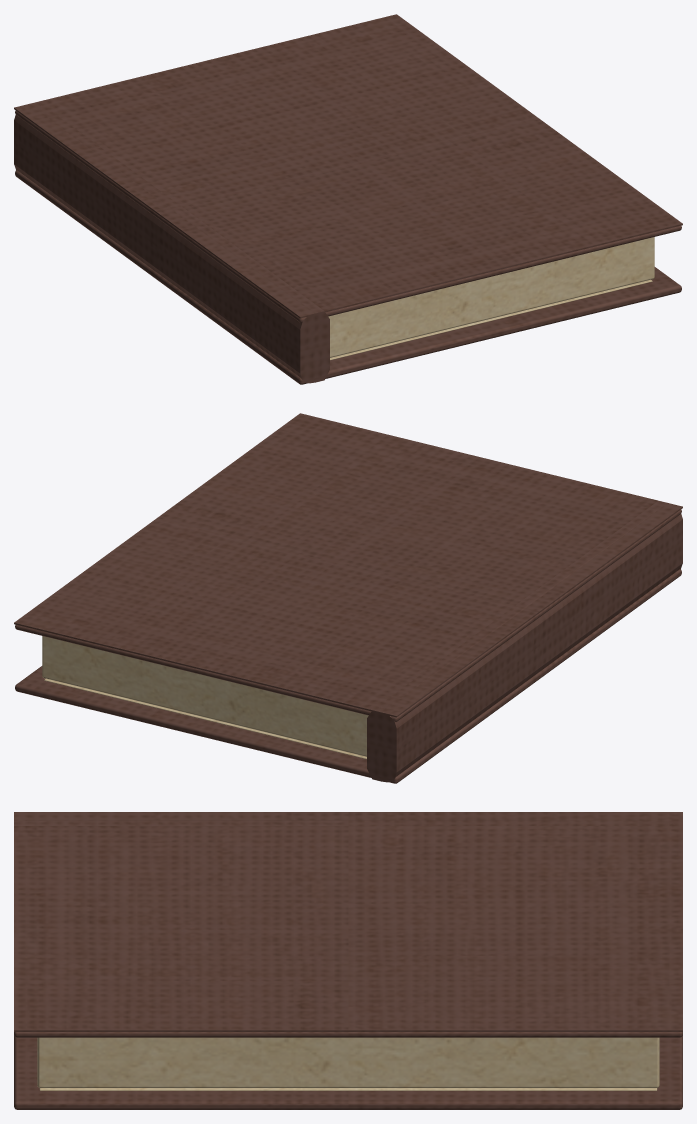
File: family-book-v1.glb
3 renders of one model, top to bottom at view 1: azimuth 30°, elevation 25°; view 2: azimuth 150°, elevation 25°; view 3: azimuth 270°, elevation 25°, orthographic. The views are drawn at different scales.
Parts seen in each view (by area): view 1: FrontClothBoard, ClothSpine, RecessedPageBlock, BackClothBoard, FrontClothBoard_Core, BackBoardInnerEndpaper; view 2: FrontClothBoard, ClothSpine, RecessedPageBlock, BackClothBoard, FrontClothBoard_Core, BackBoardInnerEndpaper; view 3: FrontClothBoard, RecessedPageBlock, BackClothBoard, PageBlock_ForeEdgeLayerRelief, ClothSpine, FrontClothBoard_Core, BackBoardInnerEndpaper.
Boxes of the visible parts, x1,y1,x2,y2 form: FrontClothBoard: (14, 14, 682, 318); ClothSpine: (14, 102, 329, 383); RecessedPageBlock: (328, 237, 654, 357); BackClothBoard: (15, 170, 681, 384); FrontClothBoard_Core: (15, 110, 681, 322); BackBoardInnerEndpaper: (330, 279, 652, 360); FrontClothBoard: (14, 413, 682, 717); ClothSpine: (367, 500, 682, 782); RecessedPageBlock: (42, 636, 368, 756); BackClothBoard: (15, 569, 681, 783); FrontClothBoard_Core: (15, 509, 681, 721); BackBoardInnerEndpaper: (44, 678, 366, 759); FrontClothBoard: (14, 812, 682, 1031); RecessedPageBlock: (37, 1037, 659, 1087); BackClothBoard: (14, 1035, 682, 1109); PageBlock_ForeEdgeLayerRelief: (64, 1037, 632, 1083); ClothSpine: (14, 820, 682, 826); FrontClothBoard_Core: (14, 1032, 682, 1037); BackBoardInnerEndpaper: (39, 1088, 657, 1090).
Bounding box in the file's own units: 0.22 × 0.038 × 0.285.
2 materials, 2 textured.
